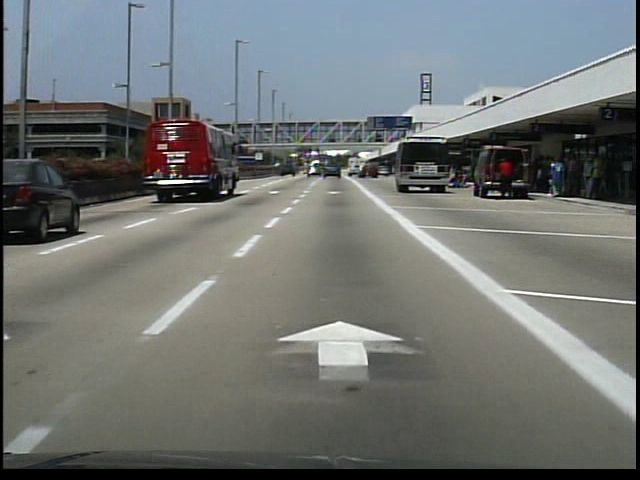person: (496, 157, 515, 206), (446, 169, 467, 195)
